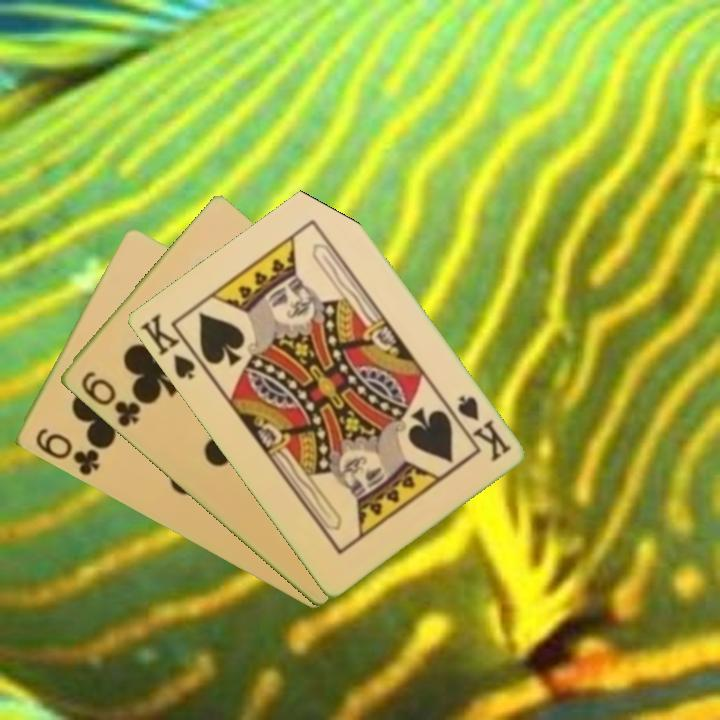6c: (77, 367, 143, 430), (31, 424, 102, 479)
Ks: (136, 310, 208, 382), (453, 392, 514, 465)
